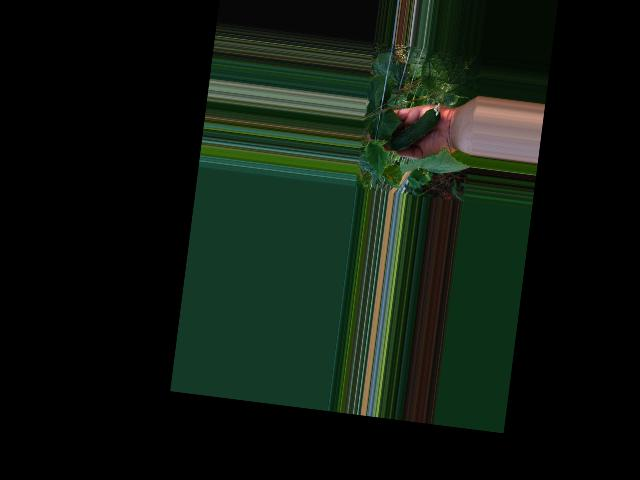cucumber: (389, 96, 442, 155)
